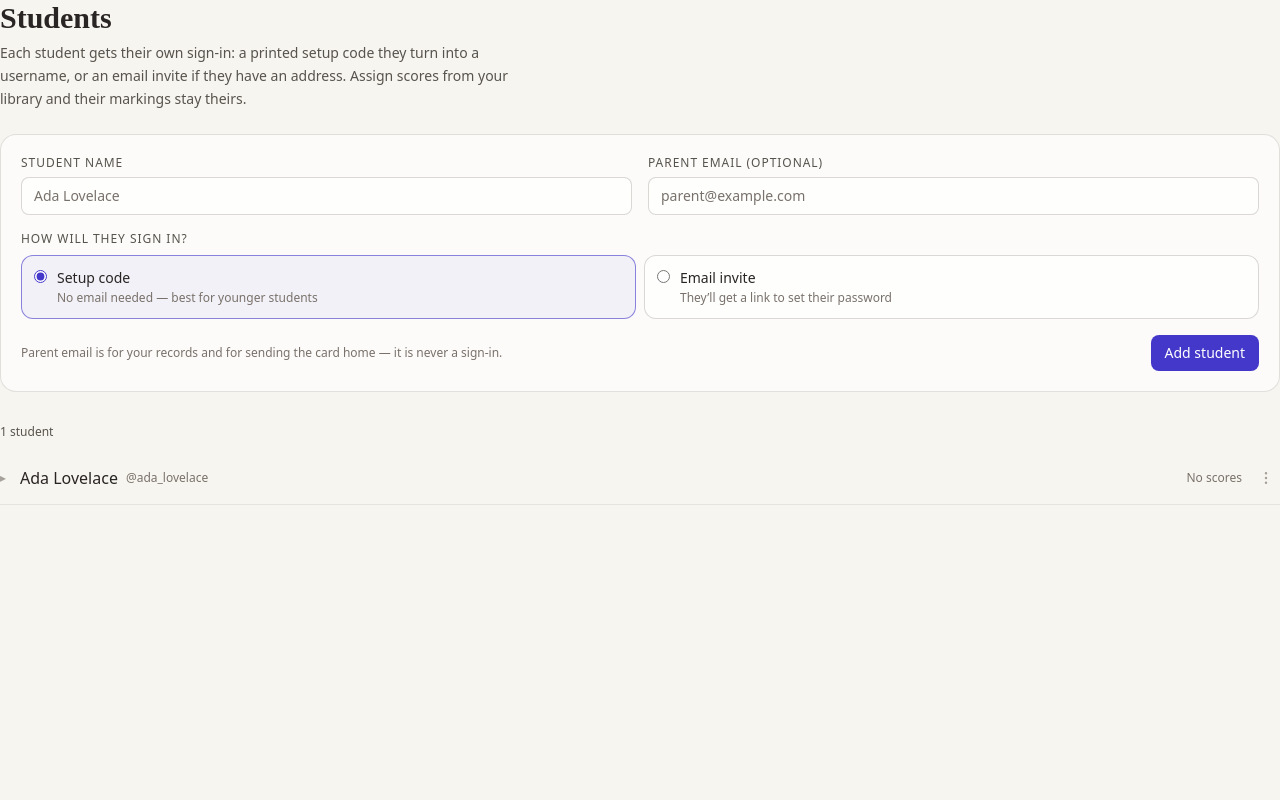
RosterPage › resets a claimed code student and prints a card carrying the username they keep
Click the button named "Student actions" at (1266, 478), box [1252, 464, 1279, 492]
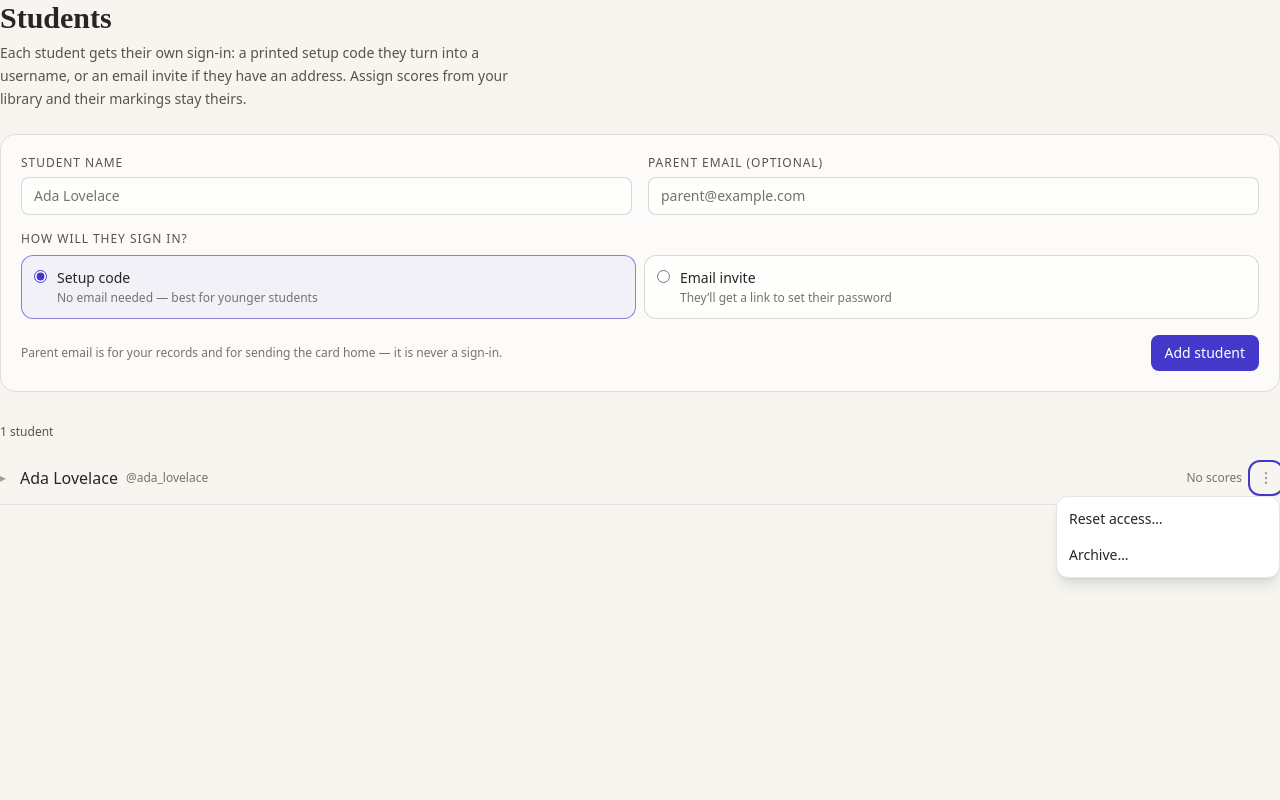
Click the menu item "Reset access…" at (1168, 519), box [1057, 501, 1279, 537]
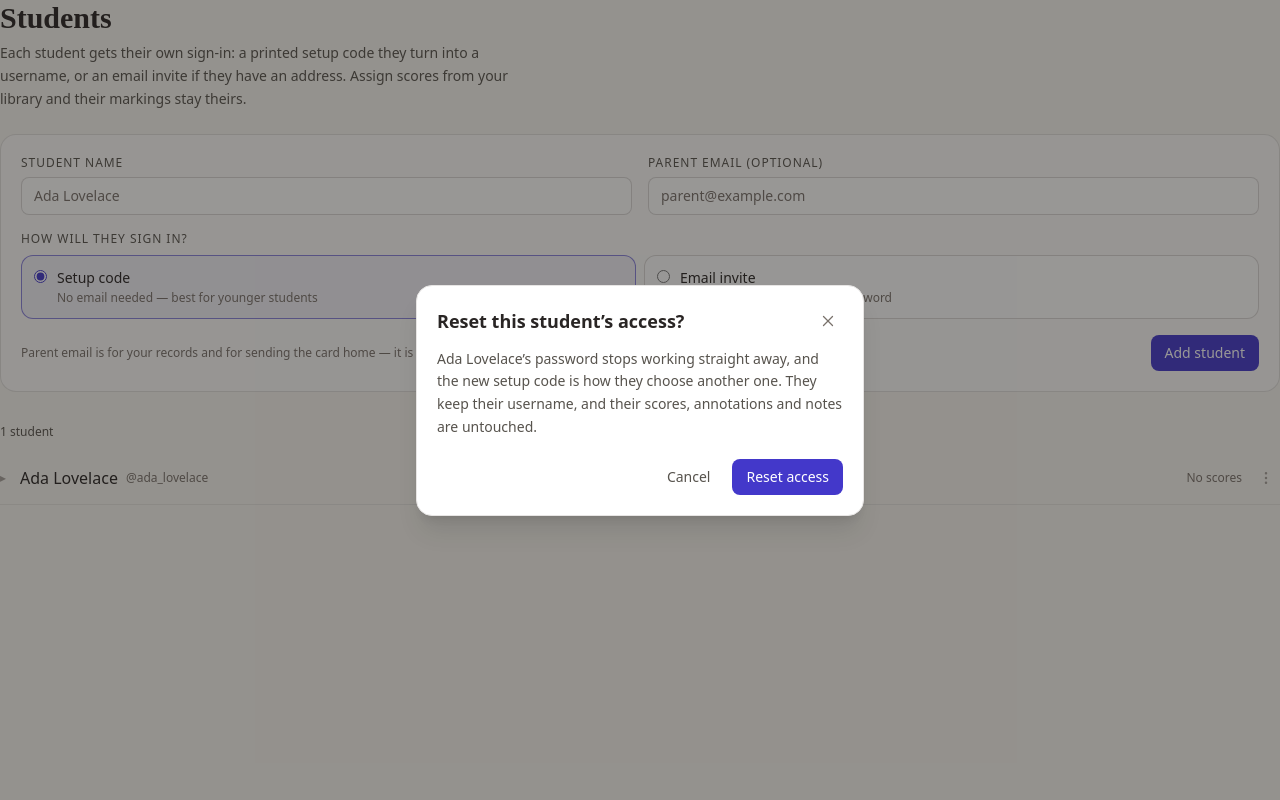
Expected: the text "password stops working straight away" is shown, [437, 348, 842, 436]
Click the button "Reset access" at (788, 476), box [732, 458, 843, 494]
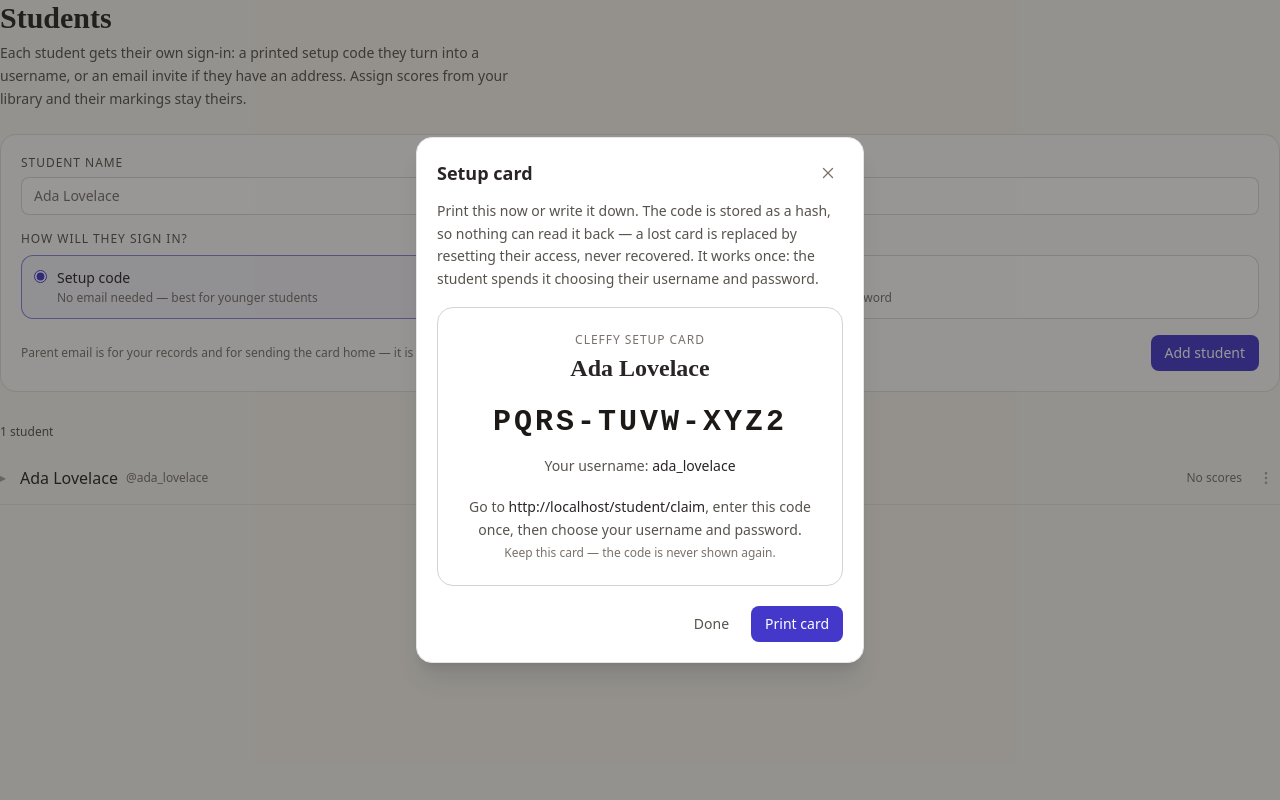
Expected: the text "PQRS-TUVW-XYZ2" is shown, [493, 405, 787, 439]
Expected: the text "ada_lovelace" is shown, [652, 456, 736, 475]
